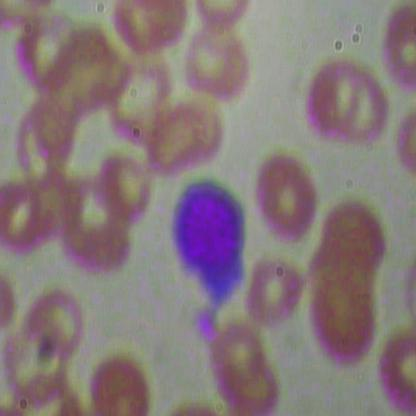Platelets: (197, 307, 219, 344)
WBC: (161, 165, 257, 309)
